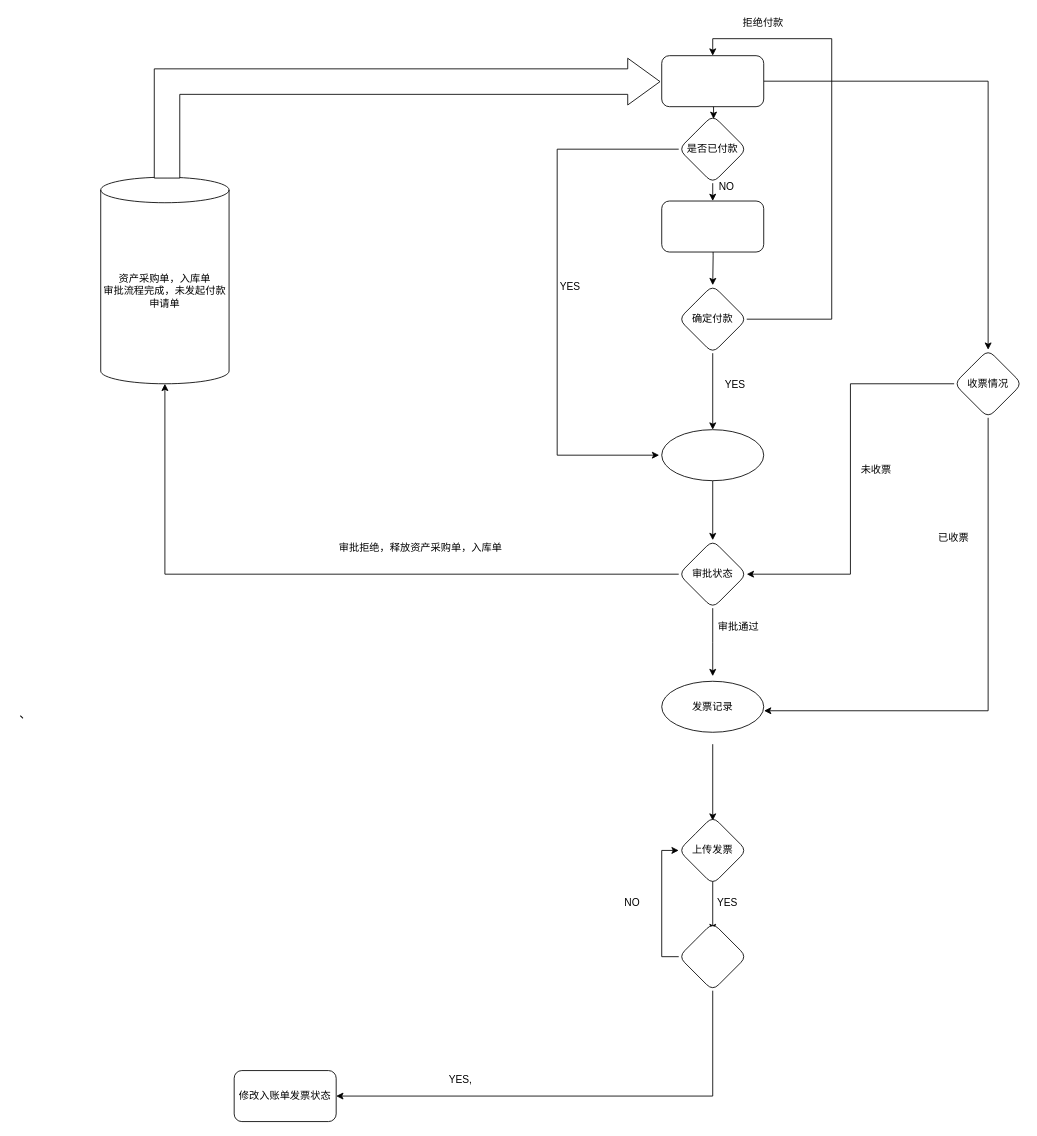
Some shapes in this 1037 by 1136 pixel diagram are drawn without their labels. Each missing label, with the box of its shape:
创建/编辑付款申请单: (661, 55, 764, 107)
发起付款申请单钉钉审批: (661, 429, 764, 481)
生成/编辑待付款记录: (661, 200, 764, 252)
确定票签: (678, 922, 747, 991)
